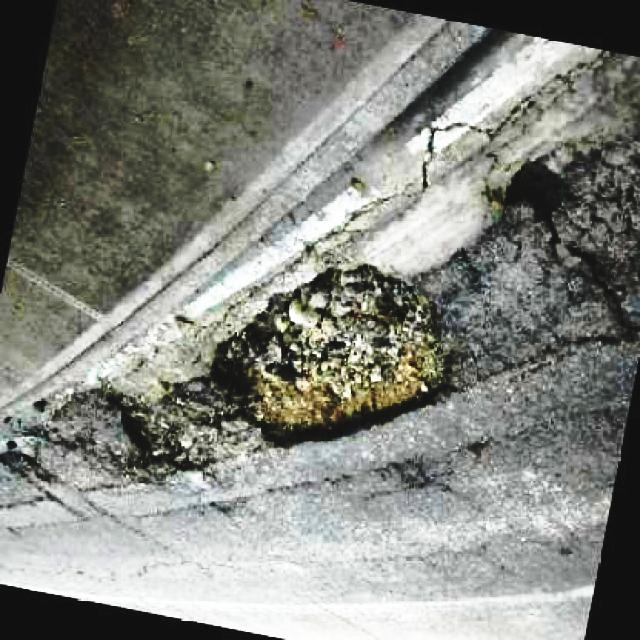pothole: (210, 258, 452, 451), (500, 163, 640, 348), (111, 380, 215, 475), (0, 438, 52, 487)
